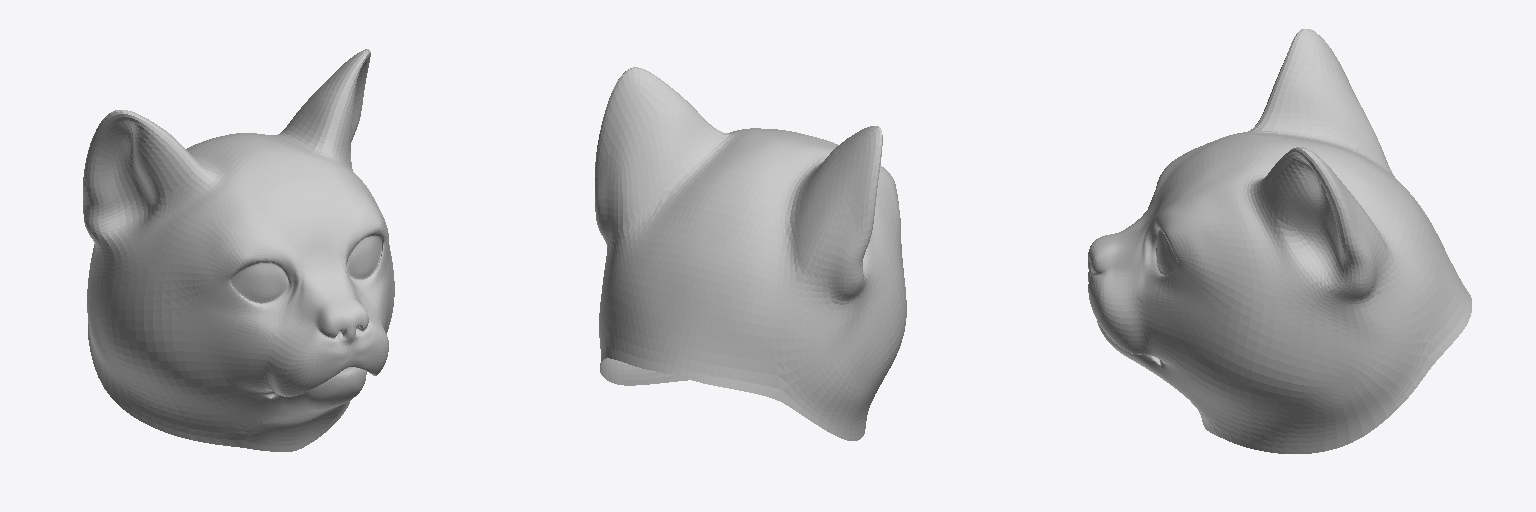
File: head.obj
3 renders of one model, left to right at view 1: azimuth 30°, elevation 25°; view 2: azimuth 150°, elevation 25°; view 3: azimuth 270°, elevation 25°, orthographic.
Parts seen in each view (by area): view 1: head; view 2: head; view 3: head.
Part boxes in pixels (left/top/right/bottom): head: left=83, top=49, right=394, bottom=451; head: left=595, top=67, right=906, bottom=440; head: left=1088, top=29, right=1471, bottom=453.
Bounding box in the file's own units: 11.3 × 13.09 × 13.65.